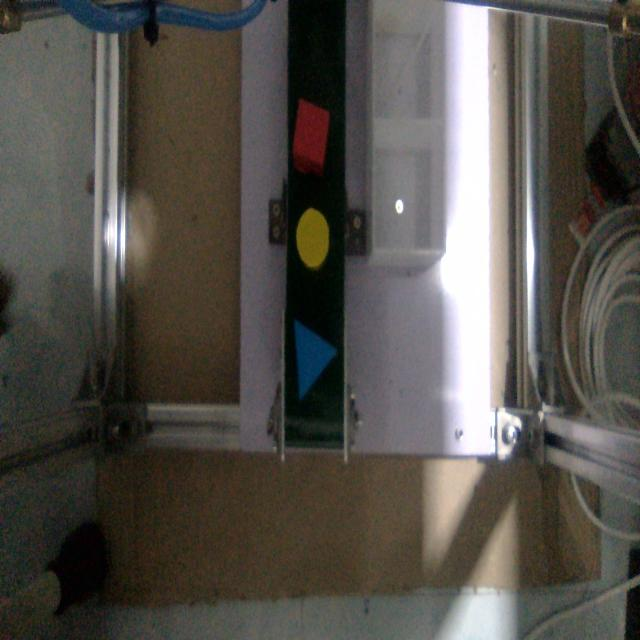BlueTri: (292, 309, 338, 403)
RedRec: (290, 93, 338, 180)
YelCir: (292, 204, 334, 276)
